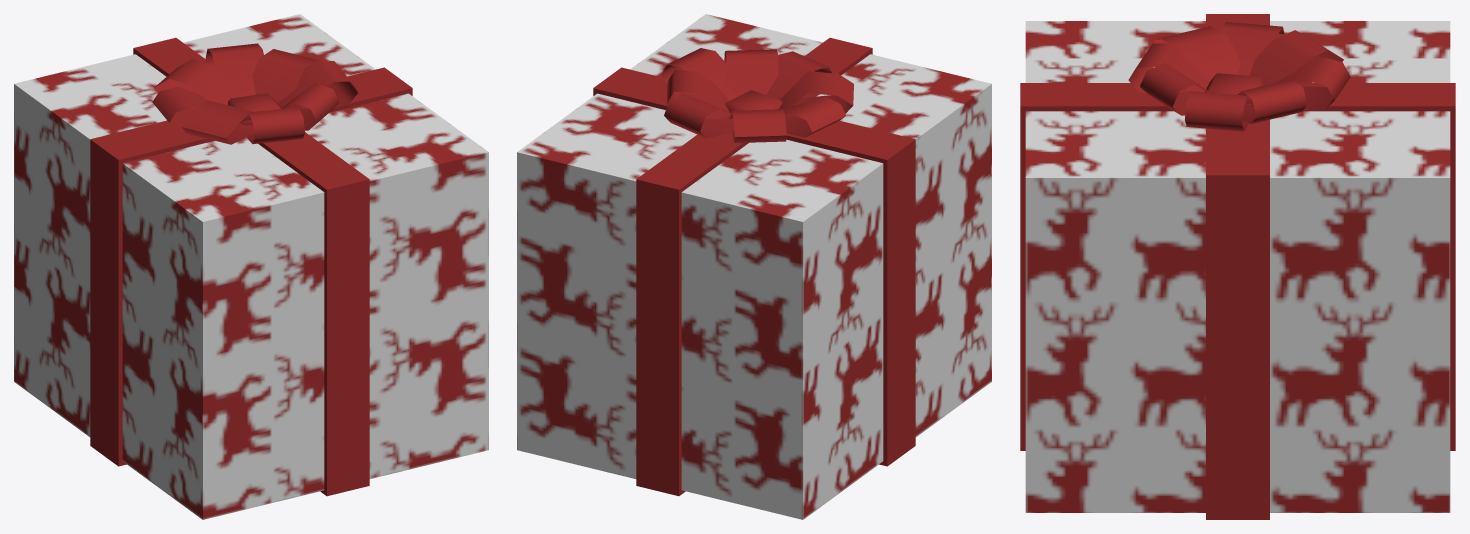
Rendered from christmas_present_04.fbx.
3 renders of one model, left to right at view 1: azimuth 30°, elevation 25°; view 2: azimuth 150°, elevation 25°; view 3: azimuth 270°, elevation 25°, orthographic. The views are drawn at different scales.
Visible parts, largest first — view 1: xmas-present_04; view 2: xmas-present_04; view 3: xmas-present_04.
Part boxes in pixels (bbox=[...]): xmas-present_04: bbox=[14, 14, 488, 519]; xmas-present_04: bbox=[517, 14, 991, 519]; xmas-present_04: bbox=[1020, 14, 1455, 519].
Size of the model in its own units: 27.05 by 29.78 by 30.82.
